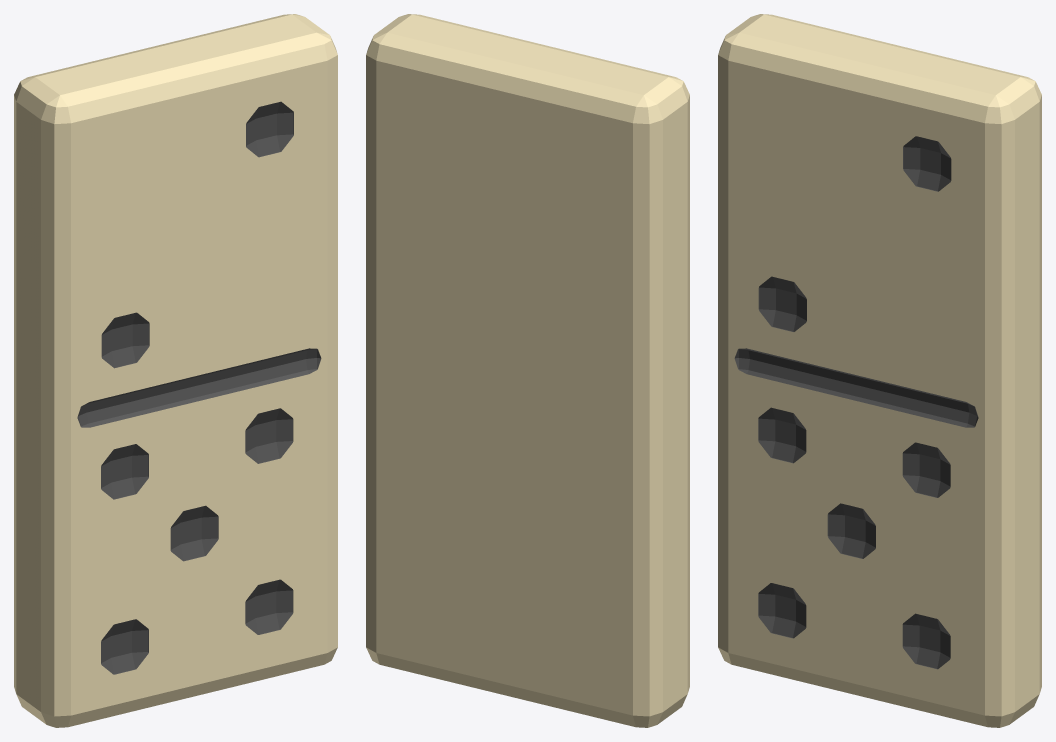
The model's file is dominoes 2x5.fbx.
The picture shows the model from 3 angles, left to right: view 1: azimuth 30°, elevation 25°; view 2: azimuth 150°, elevation 25°; view 3: azimuth 330°, elevation 25°; orthographic projection.
Parts seen in each view (by area): view 1: Boole_14; view 2: Boole_14; view 3: Boole_14.
Part boxes in pixels (box(x1,y1,x2,y2)): Boole_14: box(14, 14, 337, 727); Boole_14: box(366, 14, 689, 727); Boole_14: box(718, 14, 1041, 727).
Bounding box in the file's own units: 200 × 410 × 55.02.
